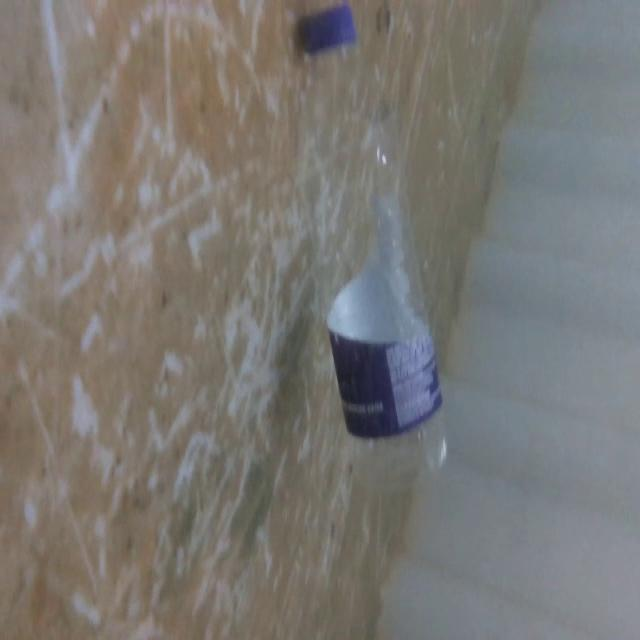plastic bottle: (280, 1, 463, 489)
